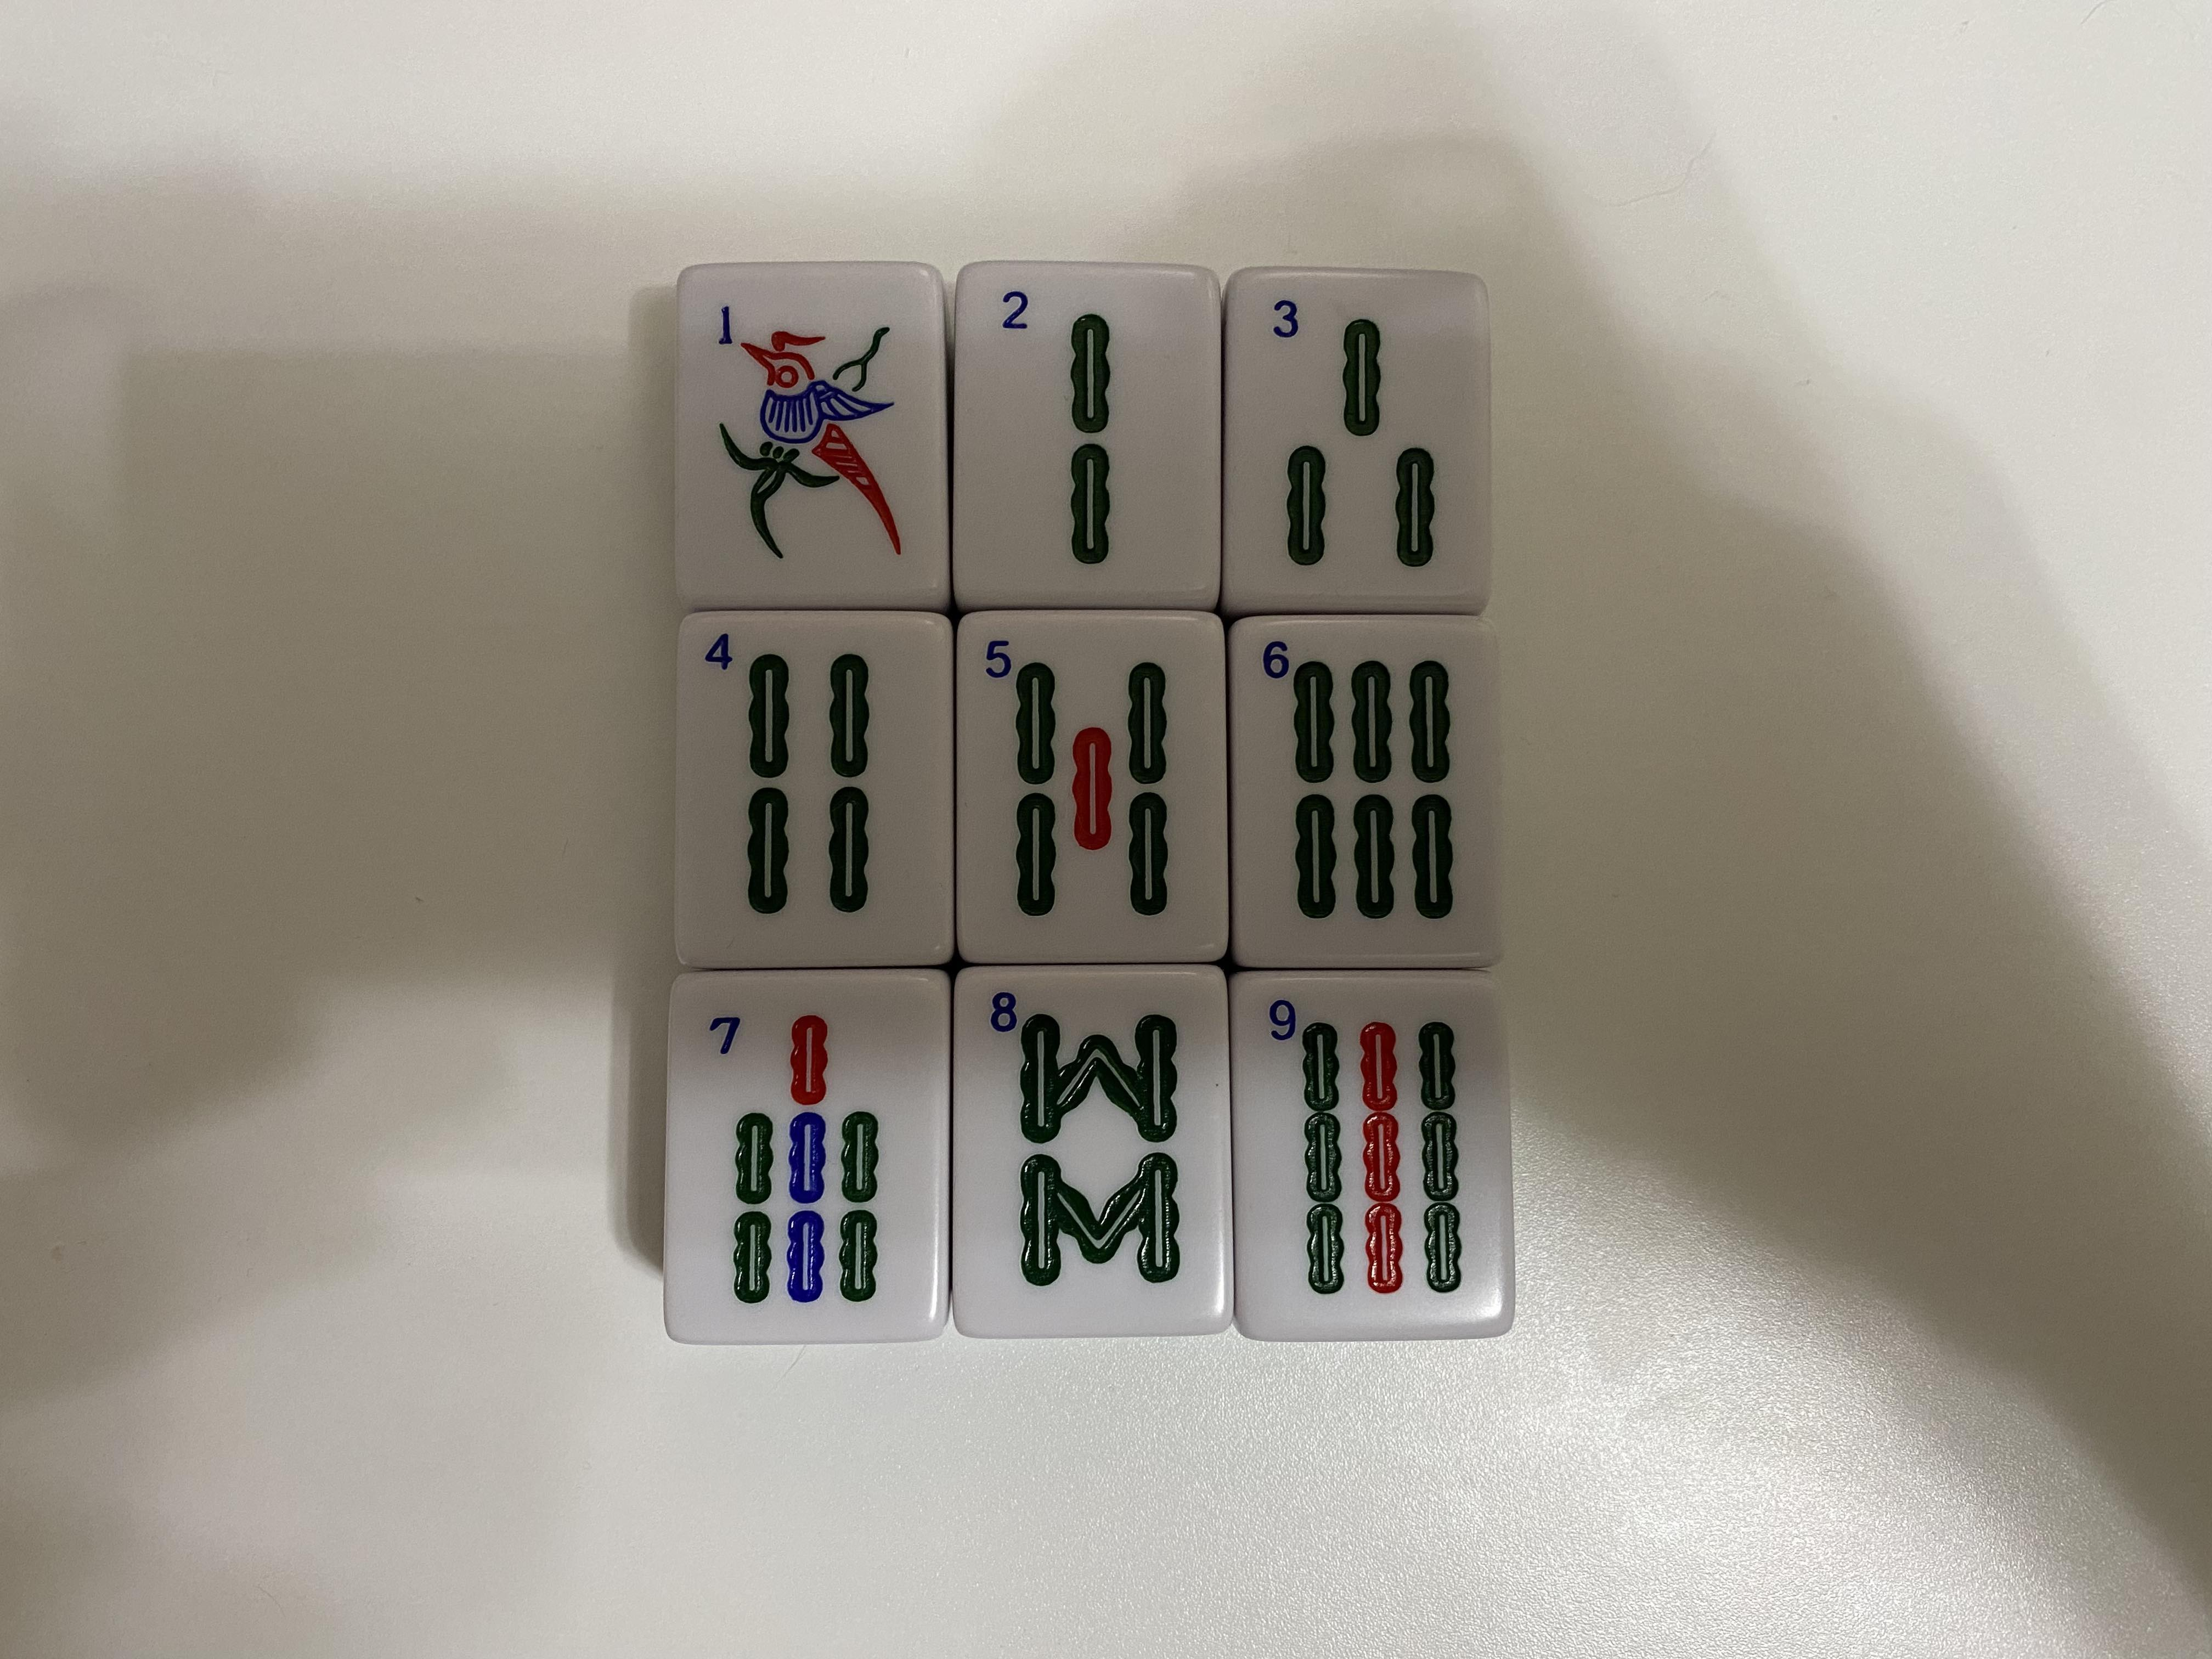bamboo-eight: (951, 965, 1231, 1330)
bamboo-five: (958, 610, 1231, 958)
bamboo-four: (674, 613, 953, 962)
bamboo-nine: (1231, 969, 1514, 1331)
bamboo-one: (679, 265, 953, 605)
bamboo-seven: (667, 972, 949, 1342)
bamboo-six: (1226, 615, 1505, 964)
bamboo-three: (1224, 267, 1486, 608)
bamboo-two: (951, 265, 1221, 603)
